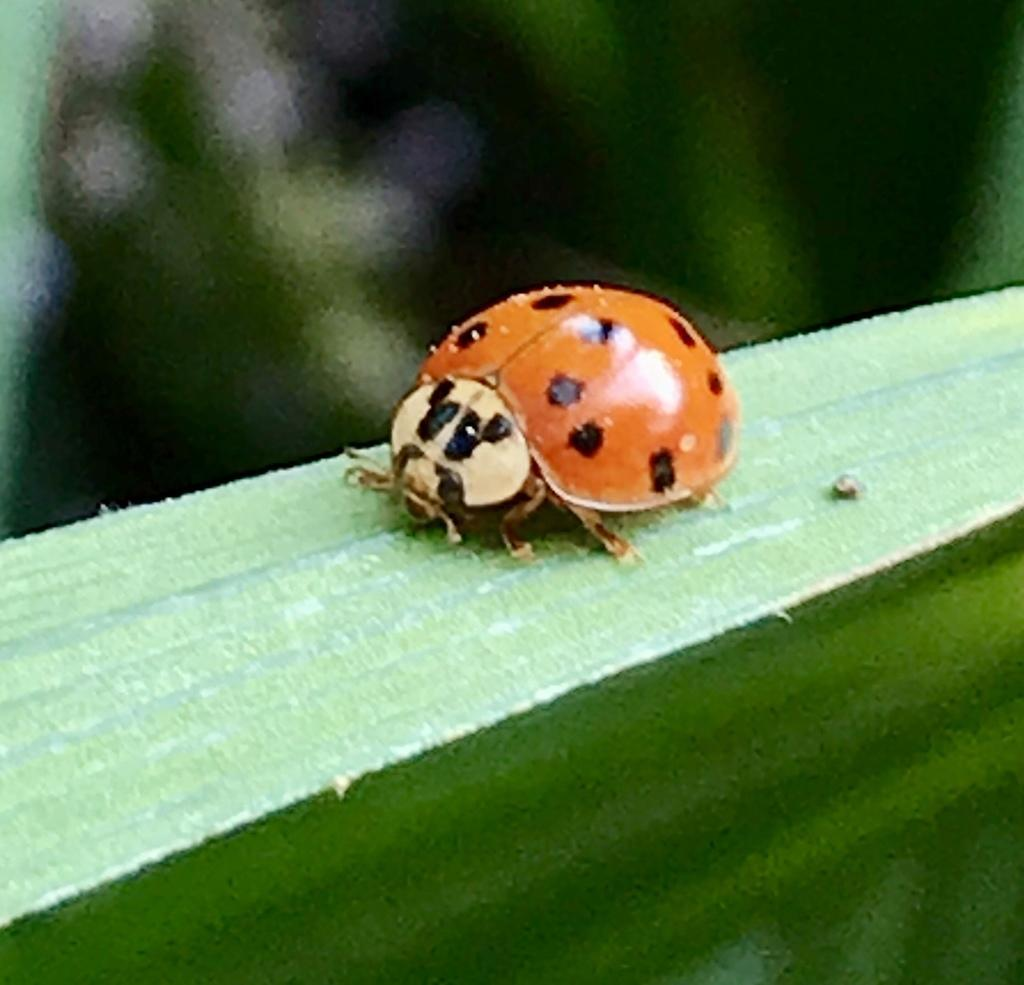ladybug: (339, 279, 744, 576)
